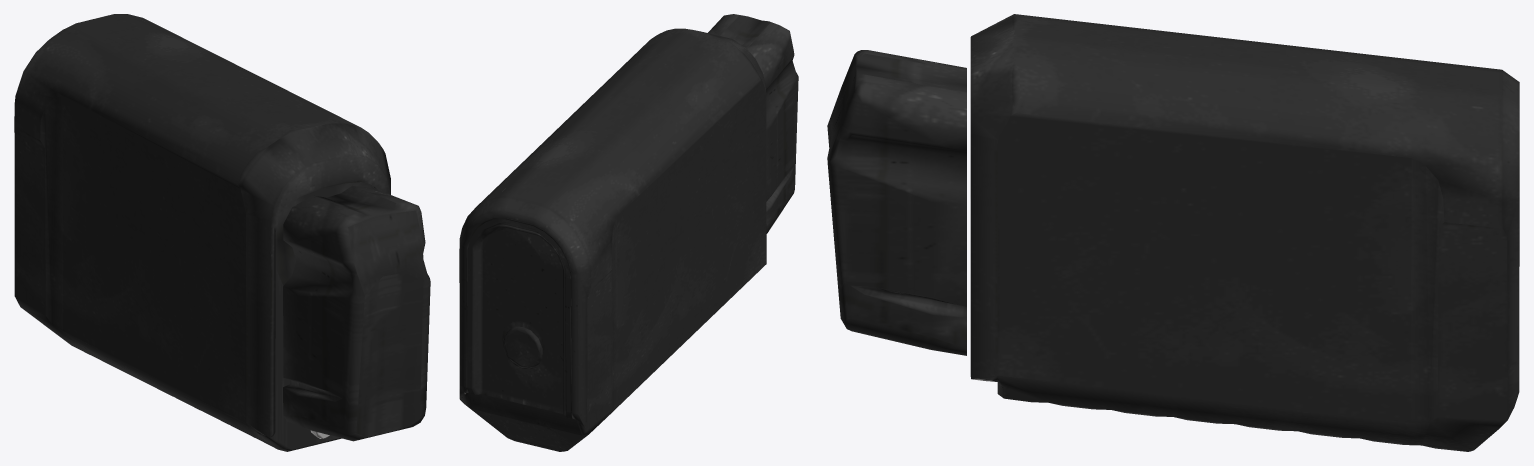
The model's file is Mag44ExtLg.fbx.
The picture shows the model from 3 angles, left to right: view 1: azimuth 30°, elevation 25°; view 2: azimuth 150°, elevation 25°; view 3: azimuth 270°, elevation 25°; orthographic projection. The views are drawn at different scales.
Parts seen in each view (by area): view 1: Mag44ExtLg; view 2: Mag44ExtLg; view 3: Mag44ExtLg.
Part boxes in pixels (x1,y1,x2,y2): Mag44ExtLg: [14, 14, 430, 451]; Mag44ExtLg: [459, 14, 798, 451]; Mag44ExtLg: [827, 14, 1519, 451].
Bounding box in the file's own units: 0.0217 × 0.0463 × 0.0713.
